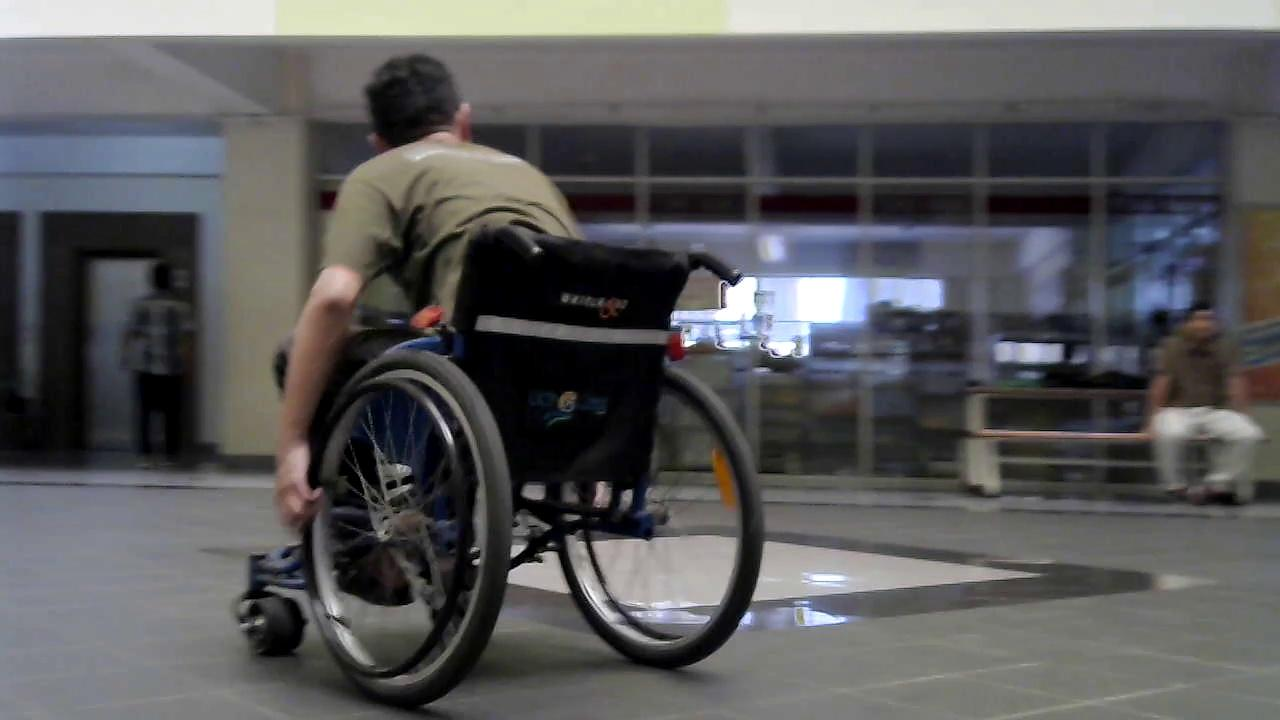person: (267, 52, 584, 544), (1146, 305, 1266, 506), (119, 263, 195, 463)
wheelchair: (212, 210, 775, 712)
